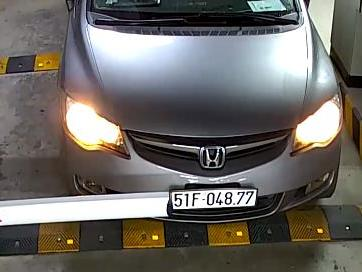number: (168, 188, 257, 211)
